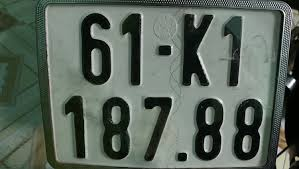Bien-so: (36, 3, 293, 168)
